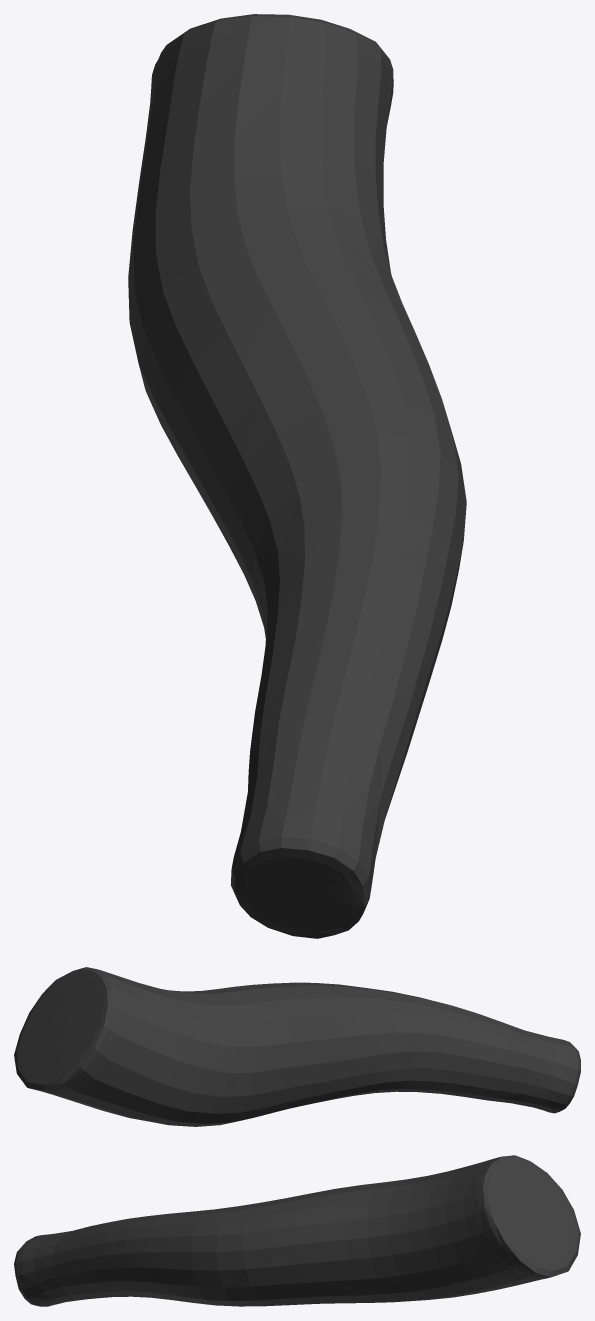
File: NERVE_vestibular_VIII_L.glb
3 renders of one model, top to bottom at view 1: azimuth 30°, elevation 25°; view 2: azimuth 150°, elevation 25°; view 3: azimuth 270°, elevation 25°, orthographic. The views are drawn at different scales.
Parts seen in each view (by area): view 1: NERVE_vestibular_VIII_L; view 2: NERVE_vestibular_VIII_L; view 3: NERVE_vestibular_VIII_L.
Part boxes in pixels (<box>): NERVE_vestibular_VIII_L: <box>128,14,466,938</box>; NERVE_vestibular_VIII_L: <box>14,967,580,1126</box>; NERVE_vestibular_VIII_L: <box>14,1155,580,1306</box>.
Bounding box in the file's own units: 1.17 × 0.8992 × 1.88.
1 material, 1 textured.
